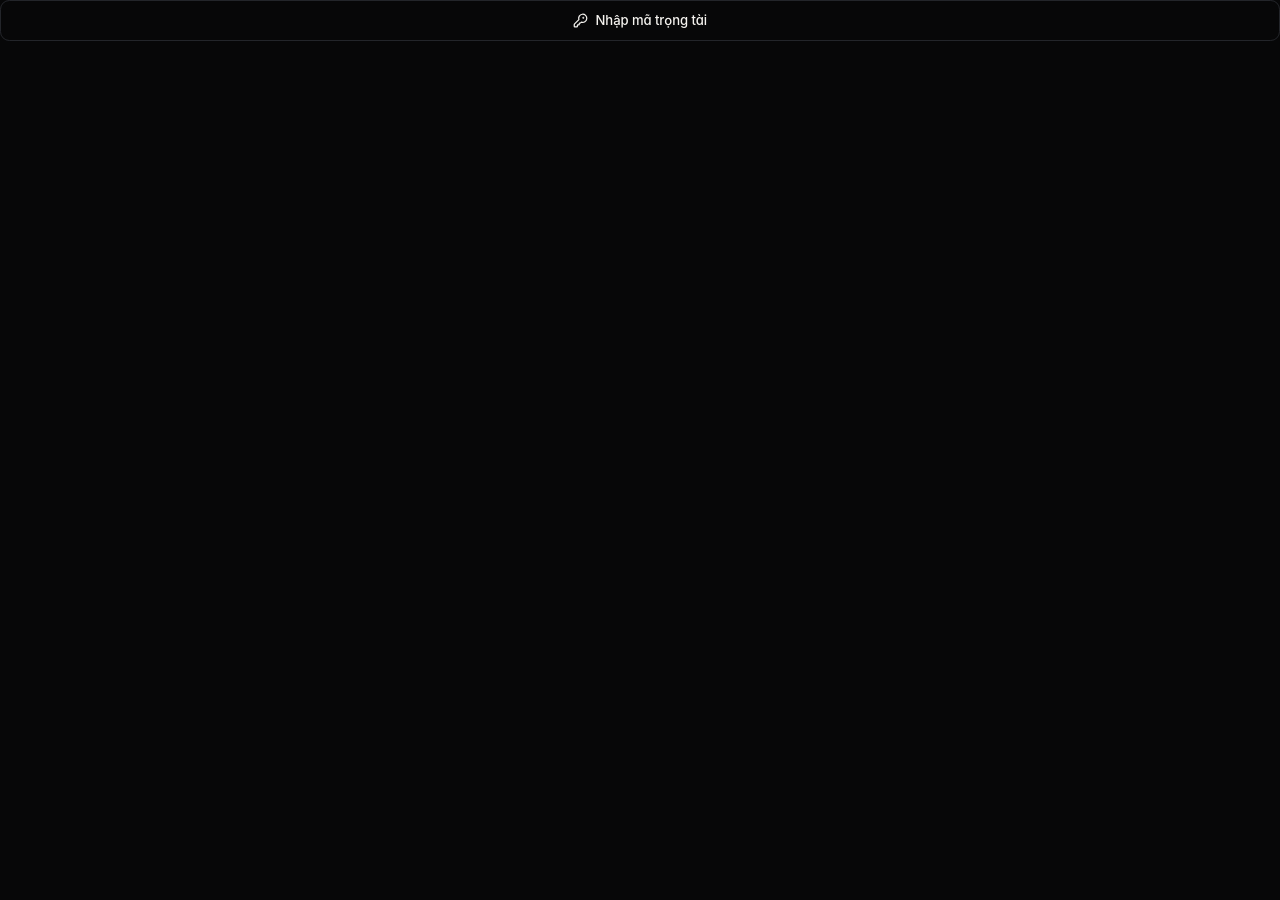
Test: RefereeJoinByPin — logged in › shows the expired error inline
The width and height of the screenshot is (1280, 900).
Click the button "Nhập mã trọng tài".
click(640, 21)  # box [0,0,1279,41]
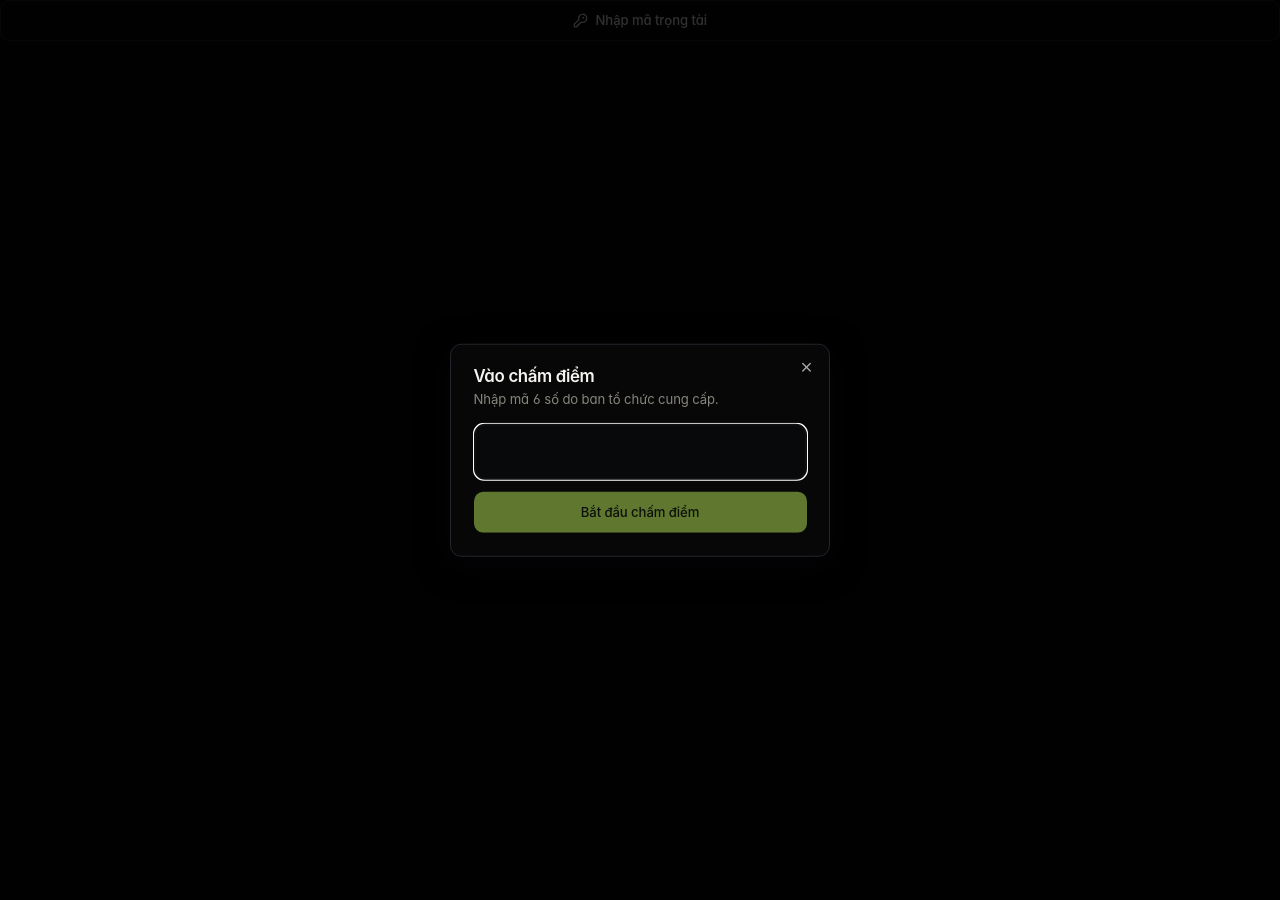
Type "000000" into the field named "Mã PIN trọng tài".
click(640, 452); type("000000")  # box [474,424,806,480]
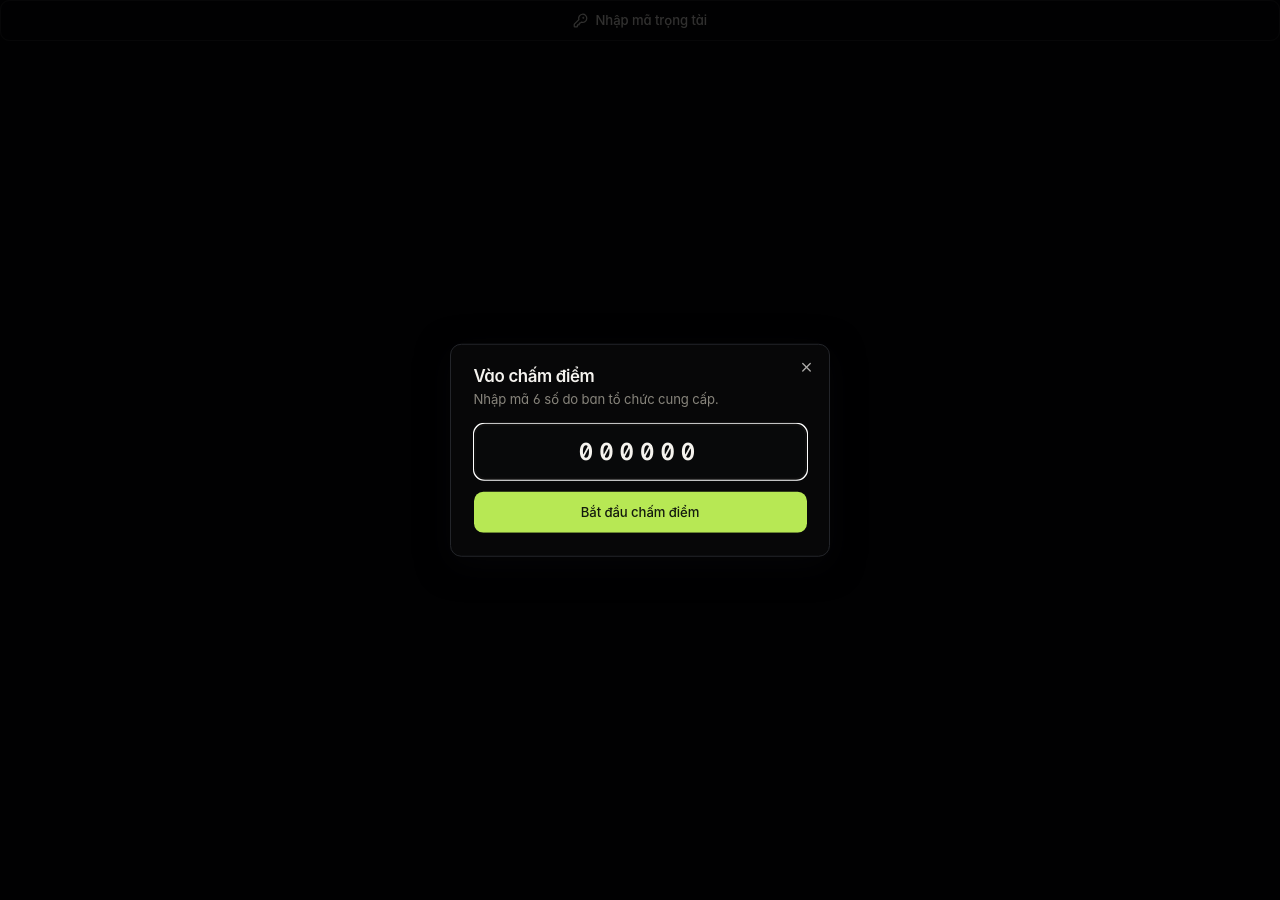
Click the button "Bắt đầu chấm điểm".
click(640, 512)  # box [474,492,806,533]
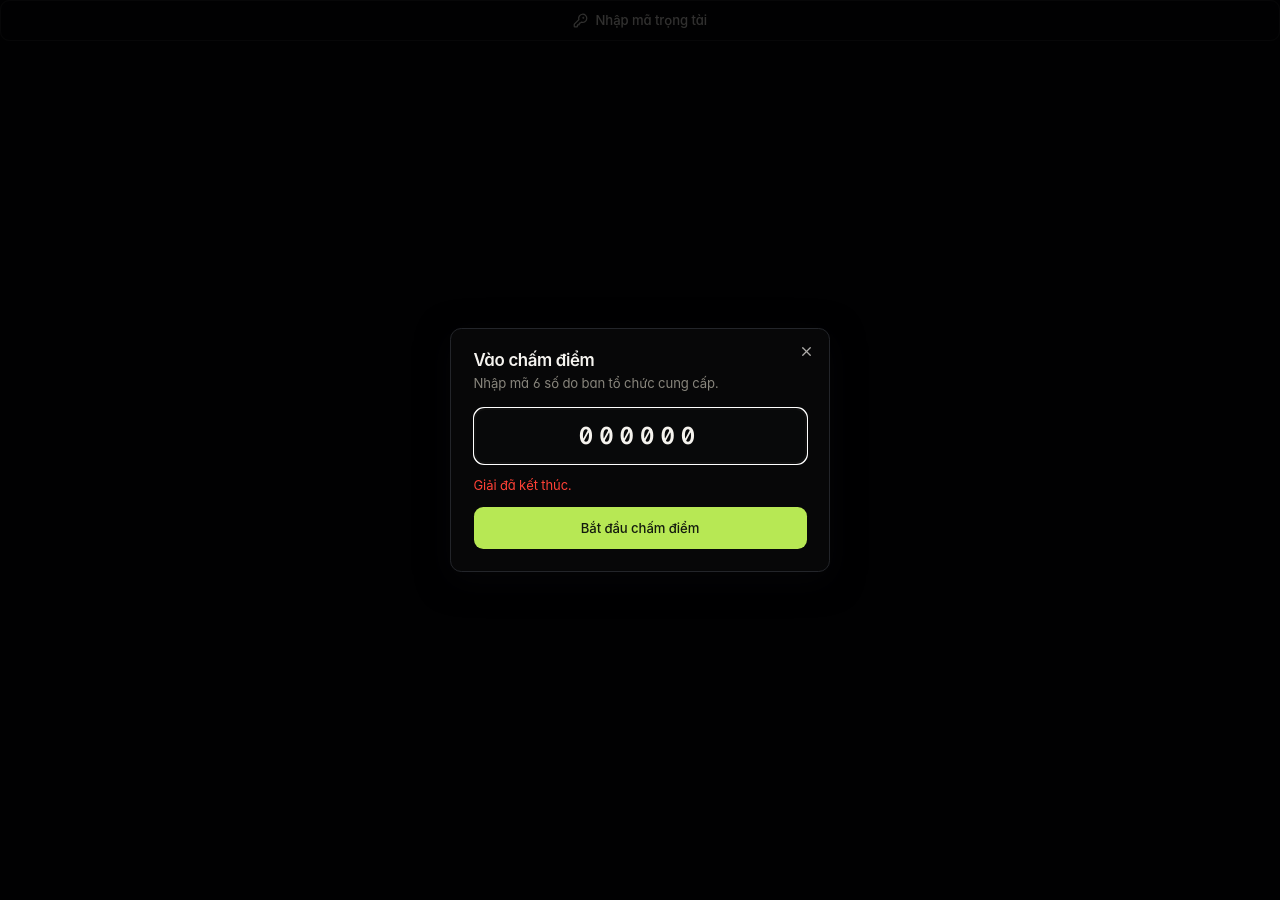
Check: the message reads "Giải đã kết thúc.", box [474,477,571,493]
